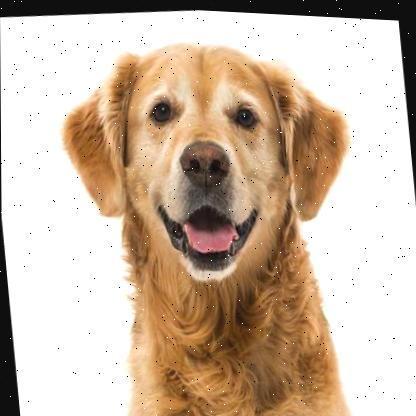dog: (43, 18, 385, 416)
